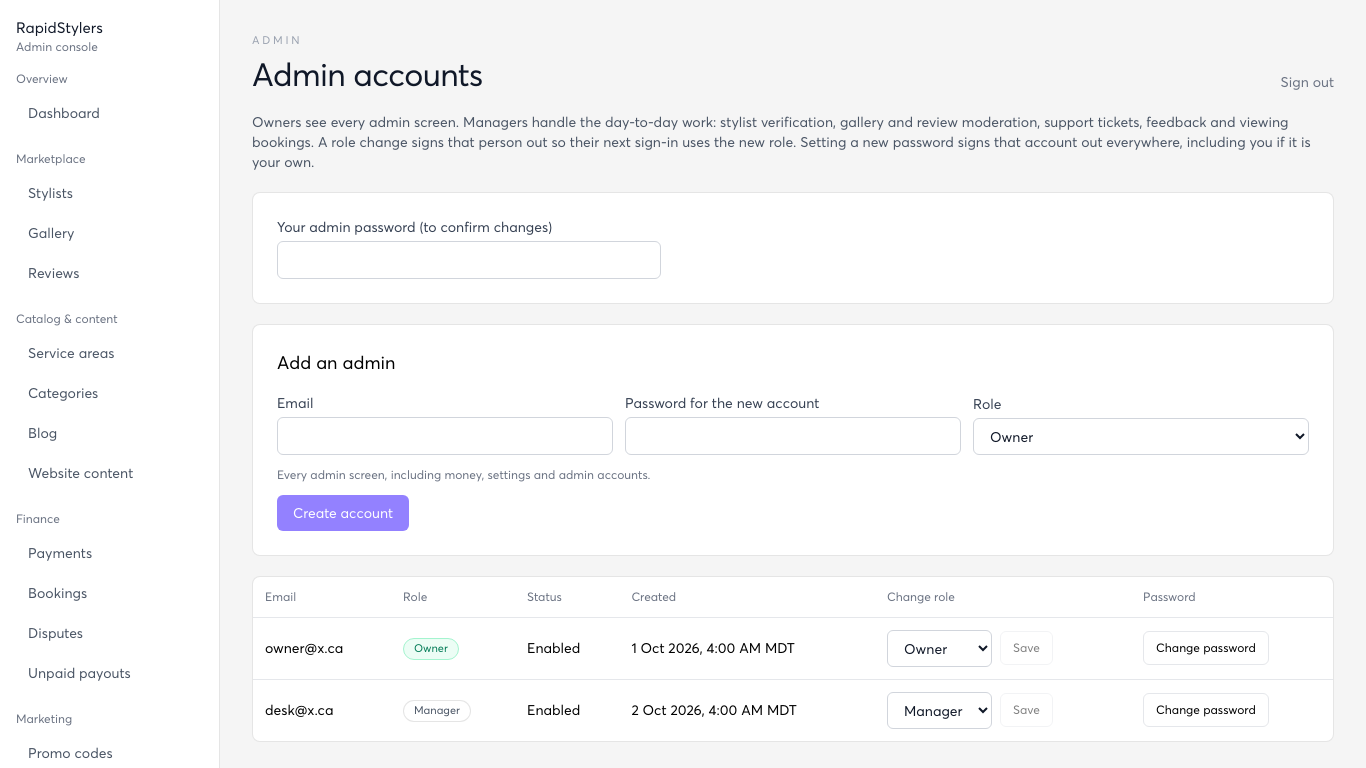
Test: admin accounts screen › shows the server's refusal
Expected: the text "owner@x.ca" is shown, [253,617,391,679]
Select "Manager" in the dropdown named "Role for owner@x.ca" at (940, 648), box [887,630,992,667]
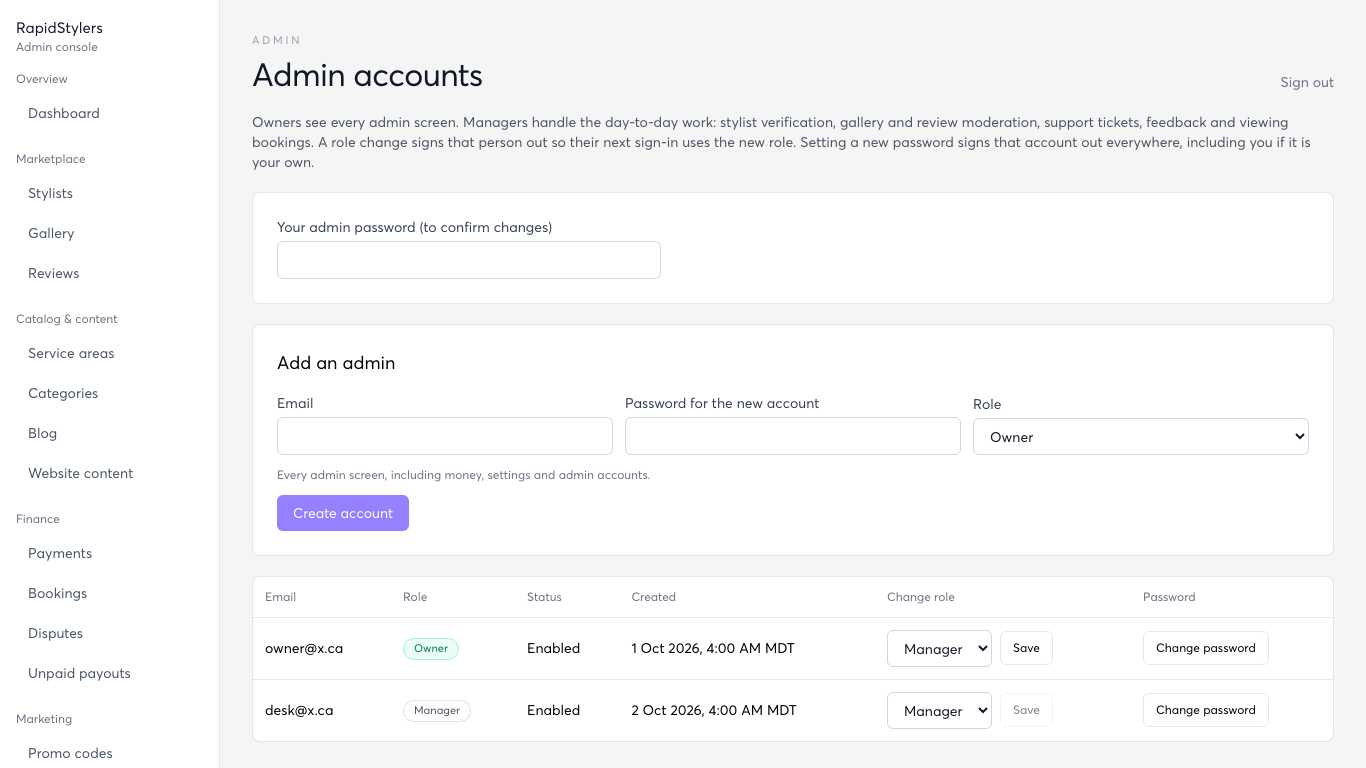
Type "owner-pass" into the password field labelled "Your admin password (to confirm changes)" at (469, 260), box [277,241,661,279]
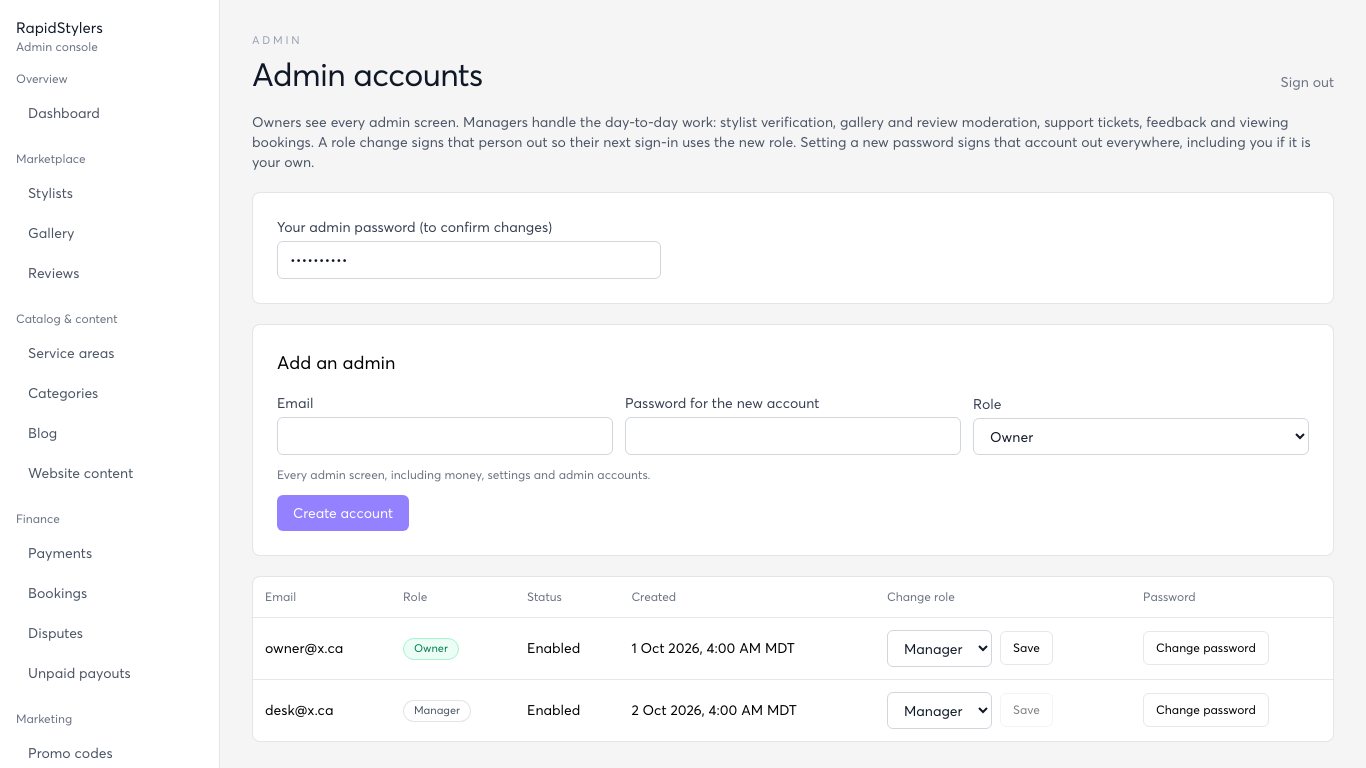
Click the button with aria-label "Save role for owner@x.ca" at (1026, 648), box [1000,631,1053,665]
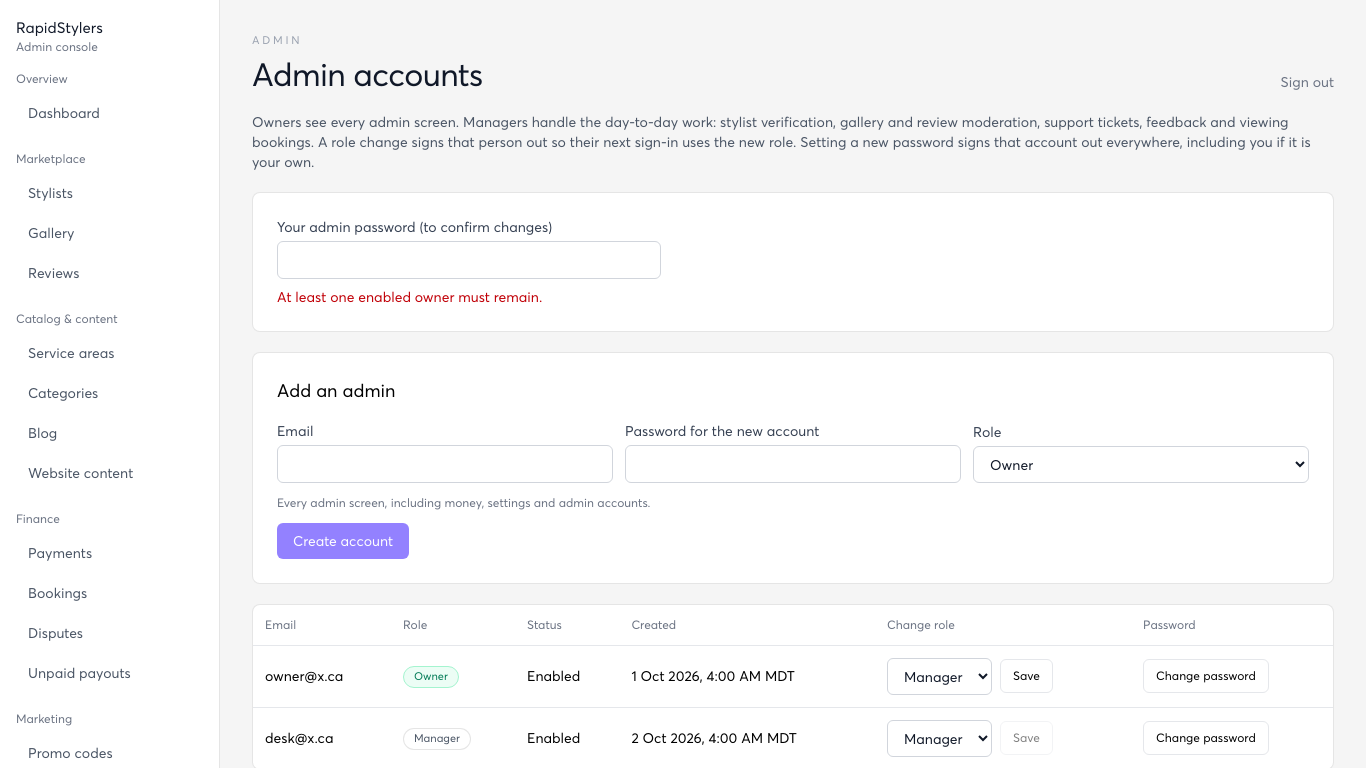
Now the message reads "At least one enabled owner must remain.", box [277,288,542,305]
